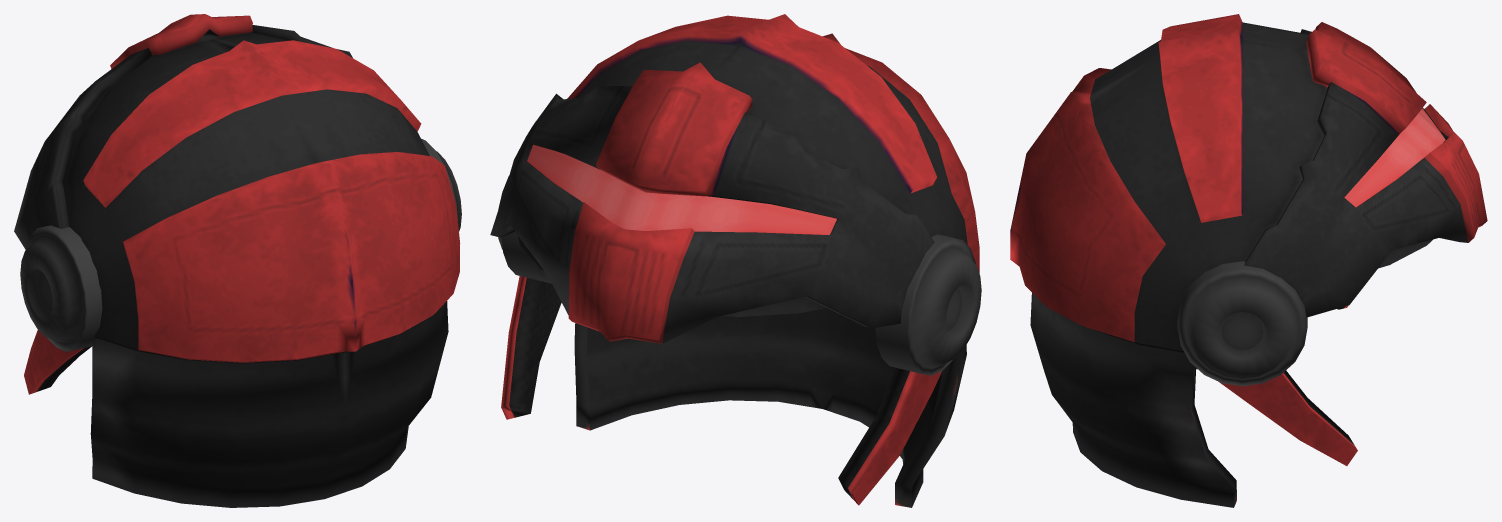
The picture shows the model from 3 angles, left to right: view 1: azimuth 30°, elevation 25°; view 2: azimuth 150°, elevation 25°; view 3: azimuth 270°, elevation 25°; orthographic projection. The views are drawn at different scales.
Parts seen in each view (by area): view 1: Mesh; view 2: Mesh; view 3: Mesh.
Part boxes in pixels (x1=…): Mesh: x1=14, y1=14, x2=461, y2=507; Mesh: x1=490, y1=14, x2=981, y2=507; Mesh: x1=1010, y1=14, x2=1487, y2=507.
Size of the model in its own units: 1.48 by 1.41 by 1.51.
